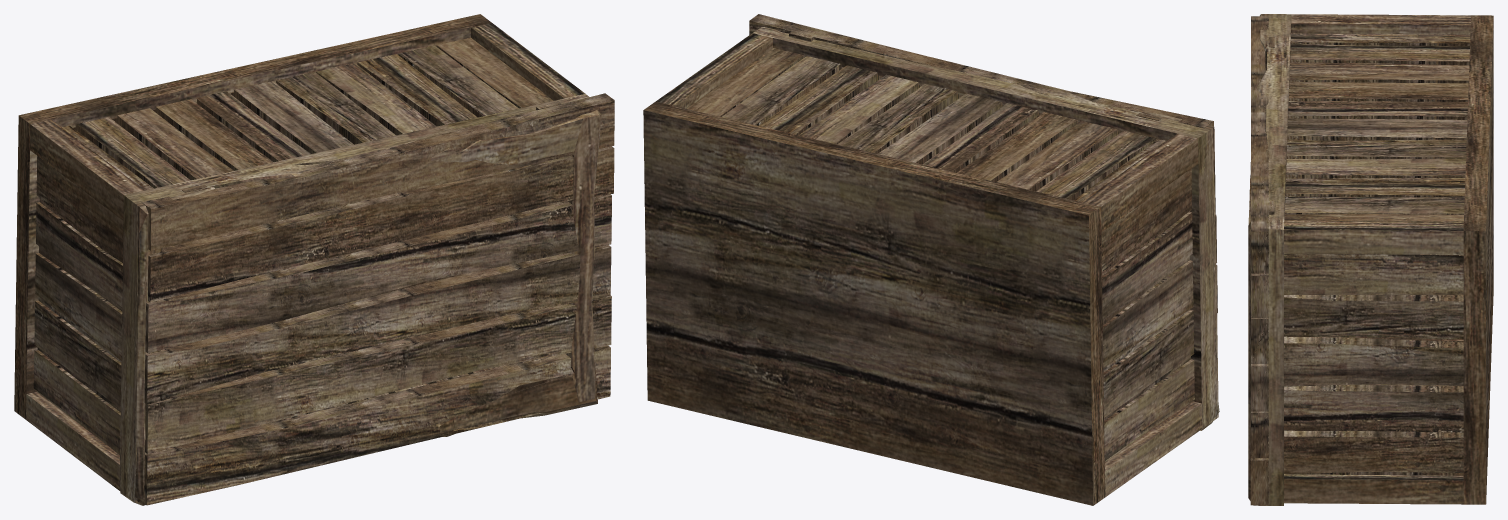
Rendered from WindBox.fbx.
3 renders of one model, left to right at view 1: azimuth 30°, elevation 25°; view 2: azimuth 150°, elevation 25°; view 3: azimuth 270°, elevation 25°, orthographic. The views are drawn at different scales.
Visible parts, largest first — view 1: objObject104.001; view 2: objObject104.001; view 3: objObject104.001.
Part boxes in pixels (bbox=[...]): objObject104.001: bbox=[14, 14, 614, 505]; objObject104.001: bbox=[643, 14, 1219, 505]; objObject104.001: bbox=[1248, 14, 1493, 505].
Size of the model in its own units: 656 by 402 by 314.
